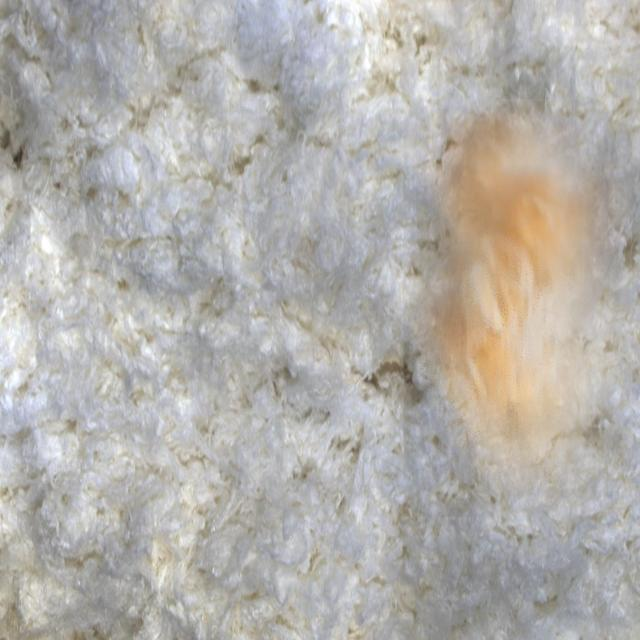dust: (404, 99, 632, 517)
